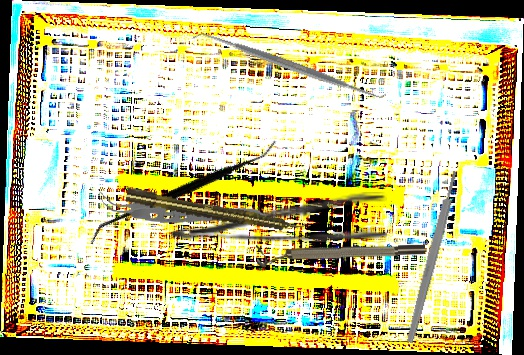Dressing Forceps: (171, 192, 387, 242)
Fixation Ring: (256, 242, 426, 267)
Handpiece: (125, 185, 306, 238)
Scalpel Handle: (404, 170, 461, 344)
Spatula Surgical: (88, 85, 279, 300), (191, 20, 388, 111)
Tissue Forceps: (95, 191, 268, 230)
